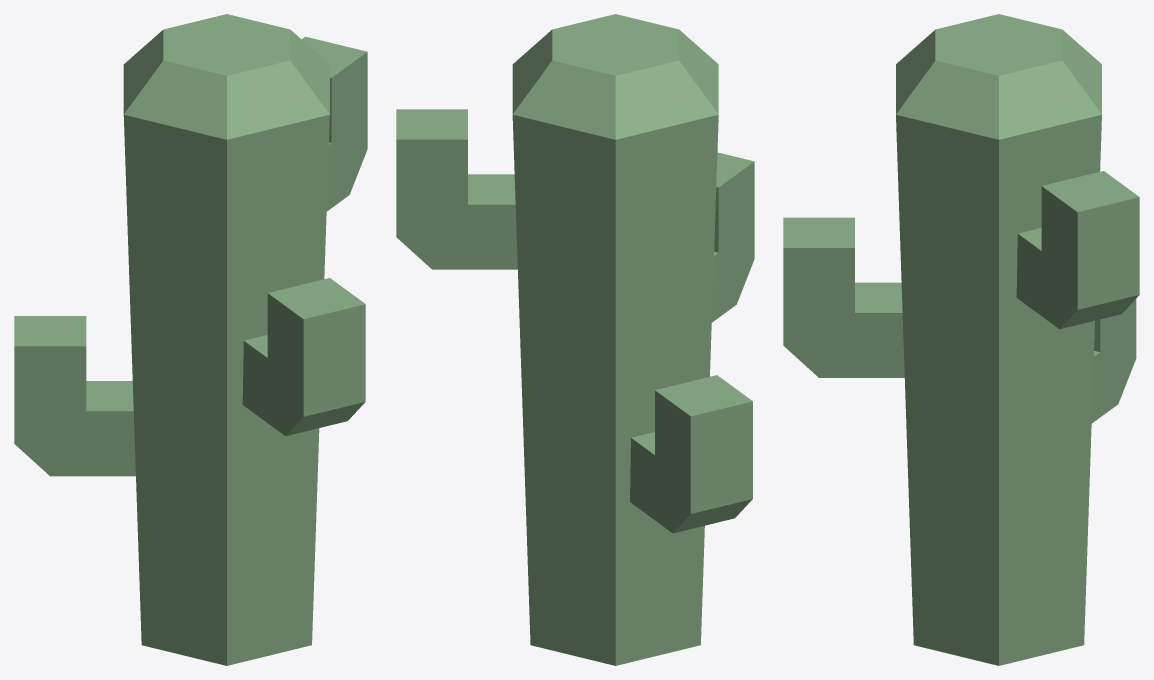
File: cactus_a.glb
The picture shows the model from 3 angles, left to right: view 1: azimuth 30°, elevation 25°; view 2: azimuth 150°, elevation 25°; view 3: azimuth 270°, elevation 25°; orthographic projection.
Visible parts, largest first — view 1: cactus_a; view 2: cactus_a; view 3: cactus_a.
Boxes of the visible parts, <box> form: cactus_a: <box>14,14,367,665</box>; cactus_a: <box>396,14,754,665</box>; cactus_a: <box>783,14,1139,665</box>.
Bounding box in the file's own units: 10.26 × 16 × 8.92.
